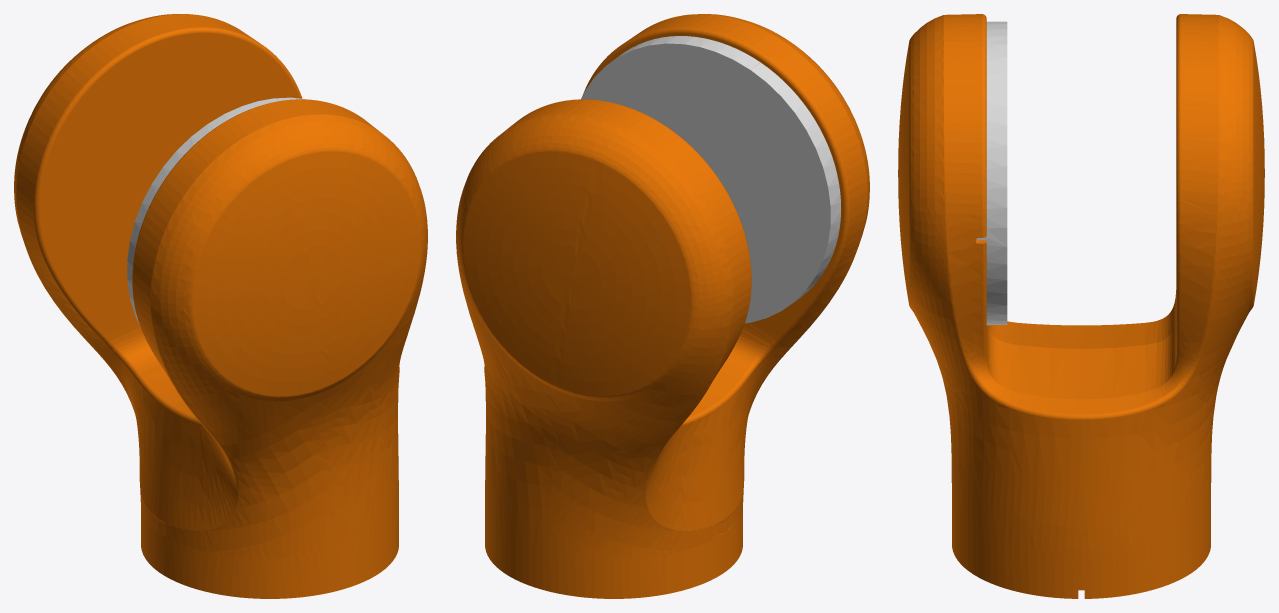
3 views of the same model, side by side, from view 1: azimuth 30°, elevation 25°; view 2: azimuth 150°, elevation 25°; view 3: azimuth 270°, elevation 25° (orthographic).
Parts seen in each view (by area): view 1: Link4; view 2: Link4; view 3: Link4.
Part boxes in pixels (x1,y1,x2,y2): Link4: [14, 14, 427, 598]; Link4: [456, 14, 869, 598]; Link4: [898, 14, 1264, 598].
Bounding box in the file's own units: 0.1095 × 0.1714 × 0.116.
